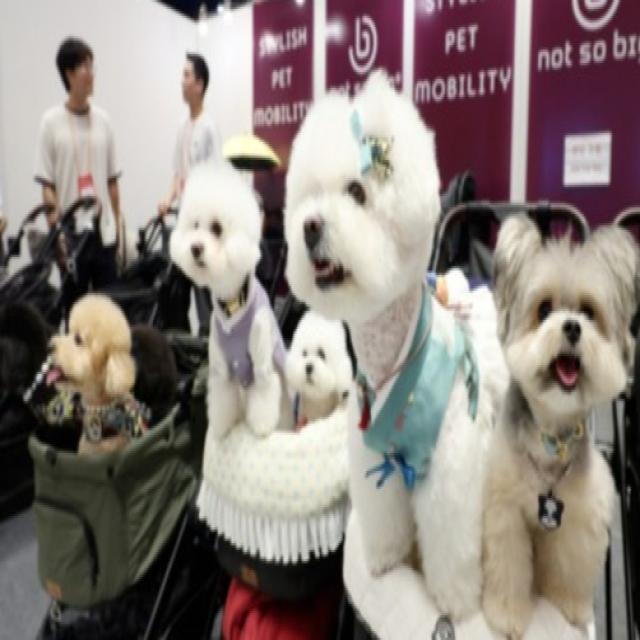dogs: (293, 96, 491, 595), (494, 204, 632, 614), (174, 162, 288, 431), (43, 287, 152, 466)
